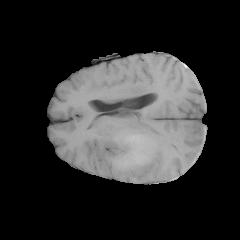glioma: (97, 129, 162, 177)
